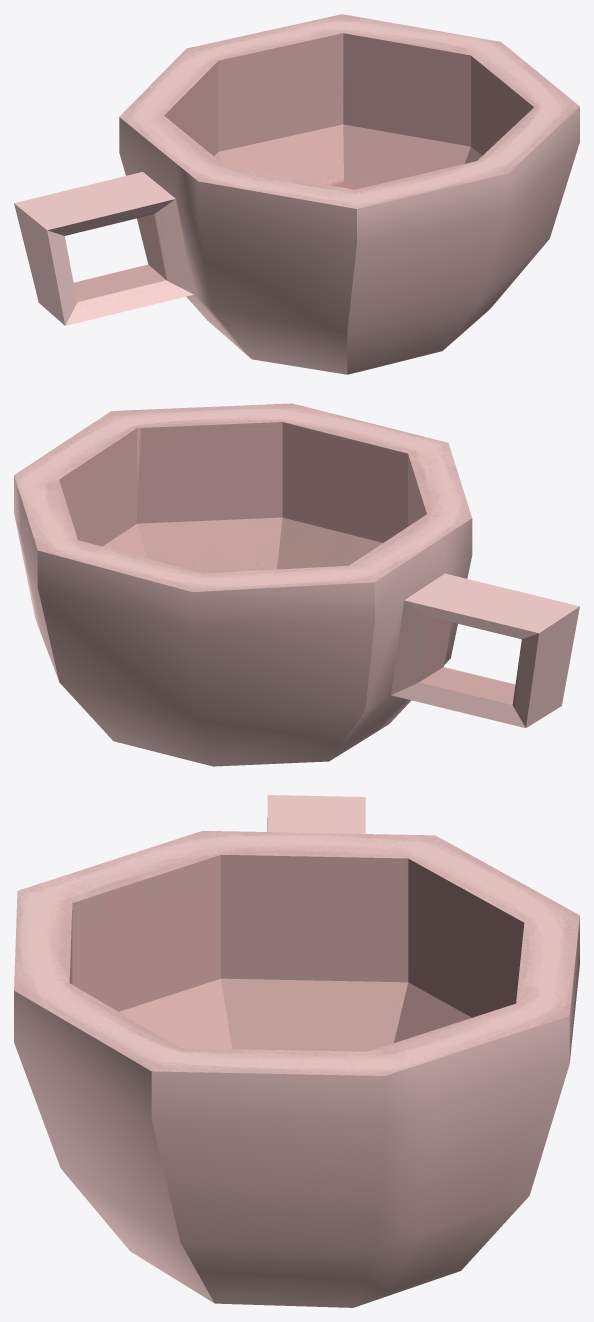
The model's file is TazaVacia_Model.fbx.
3 views of the same model, one above another, from view 1: azimuth 30°, elevation 25°; view 2: azimuth 150°, elevation 25°; view 3: azimuth 270°, elevation 25° (orthographic). The views are drawn at different scales.
Parts seen in each view (by area): view 1: Taza; view 2: Taza; view 3: Taza.
Part boxes in pixels (x1,y1,x2,y2): Taza: (14,14,579,374); Taza: (14,403,579,766); Taza: (14,795,579,1307).
Size of the model in its own units: 1.72 by 0.6877 by 1.25.
